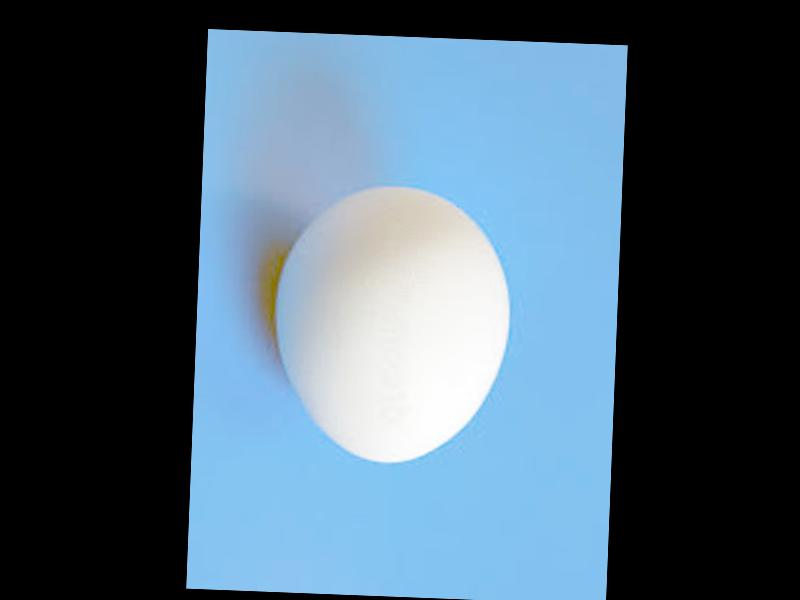Eggs: (268, 180, 513, 470)
